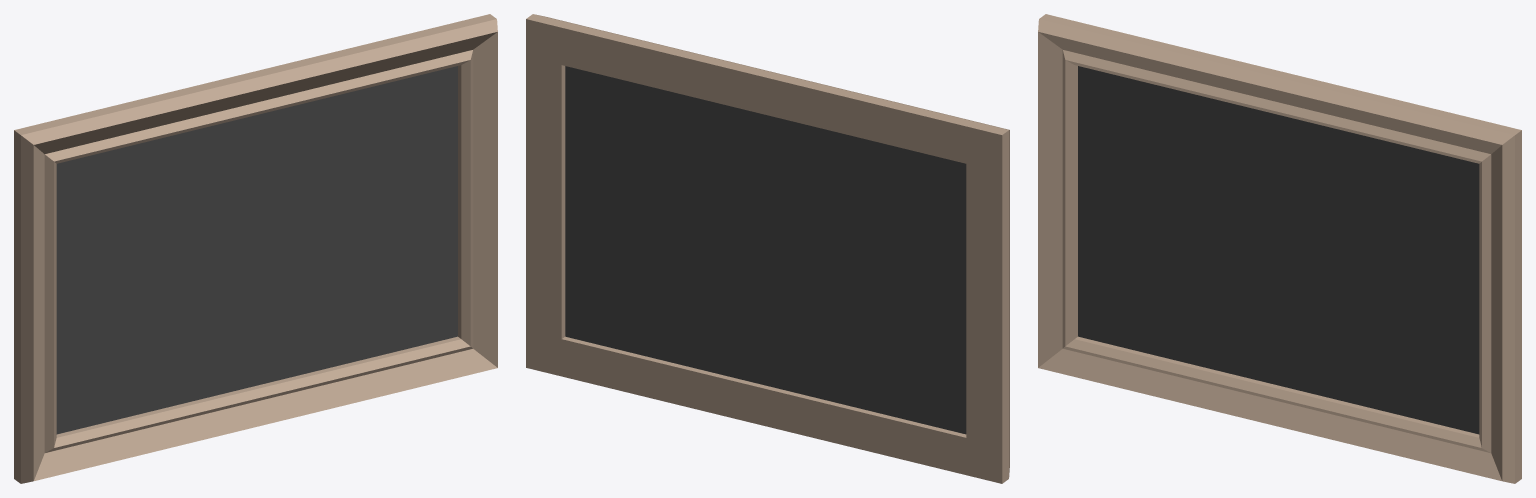
File: Prop_Misc_Picture_Landscape.fbx
The picture shows the model from 3 angles, left to right: view 1: azimuth 30°, elevation 25°; view 2: azimuth 150°, elevation 25°; view 3: azimuth 330°, elevation 25°; orthographic projection.
Visible parts, largest first — view 1: object1.045, object2.030; view 2: object1.045, object2.030; view 3: object1.045, object2.030.
Boxes of the visible parts, x1,y1,x2,y2 form: object1.045: [56, 66, 457, 434]; object2.030: [14, 14, 497, 483]; object1.045: [565, 66, 966, 434]; object2.030: [526, 14, 1009, 483]; object1.045: [1078, 66, 1479, 434]; object2.030: [1038, 14, 1521, 483].
Bounding box in the file's own units: 100 × 70 × 5.
